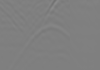hyperbola: (19, 23, 79, 57)
